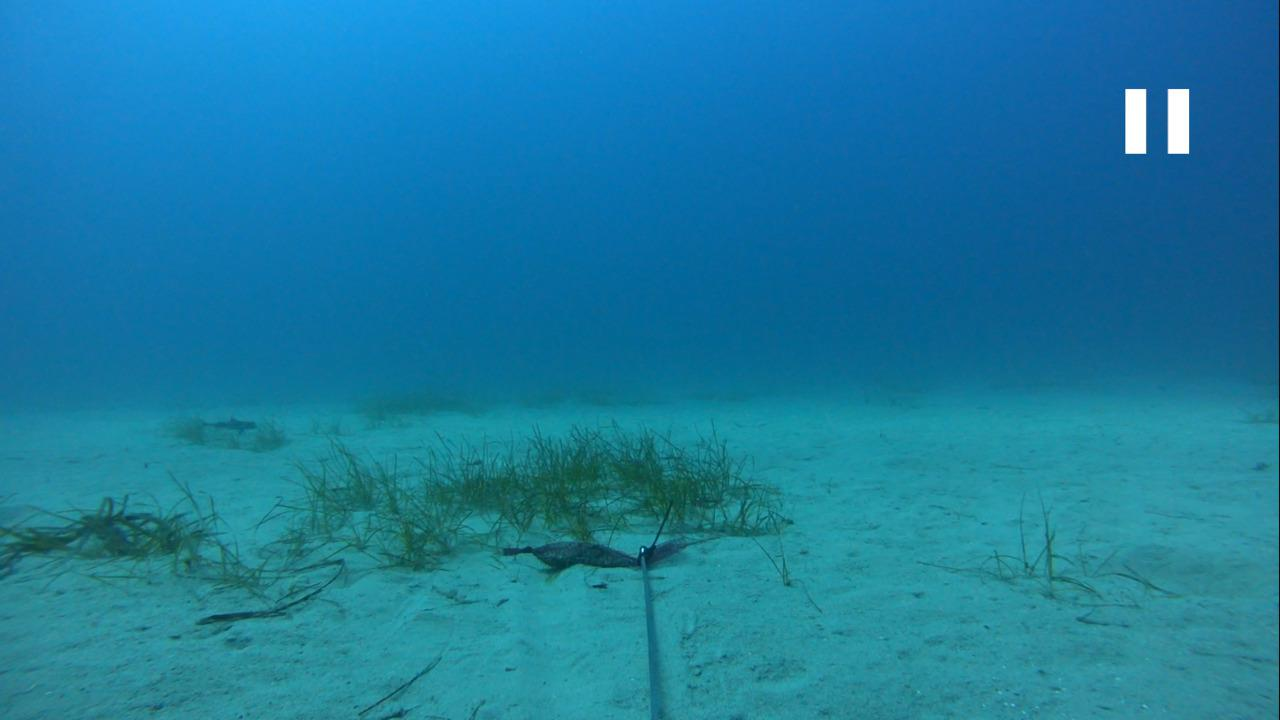dactylopterus: (186, 411, 269, 439)
